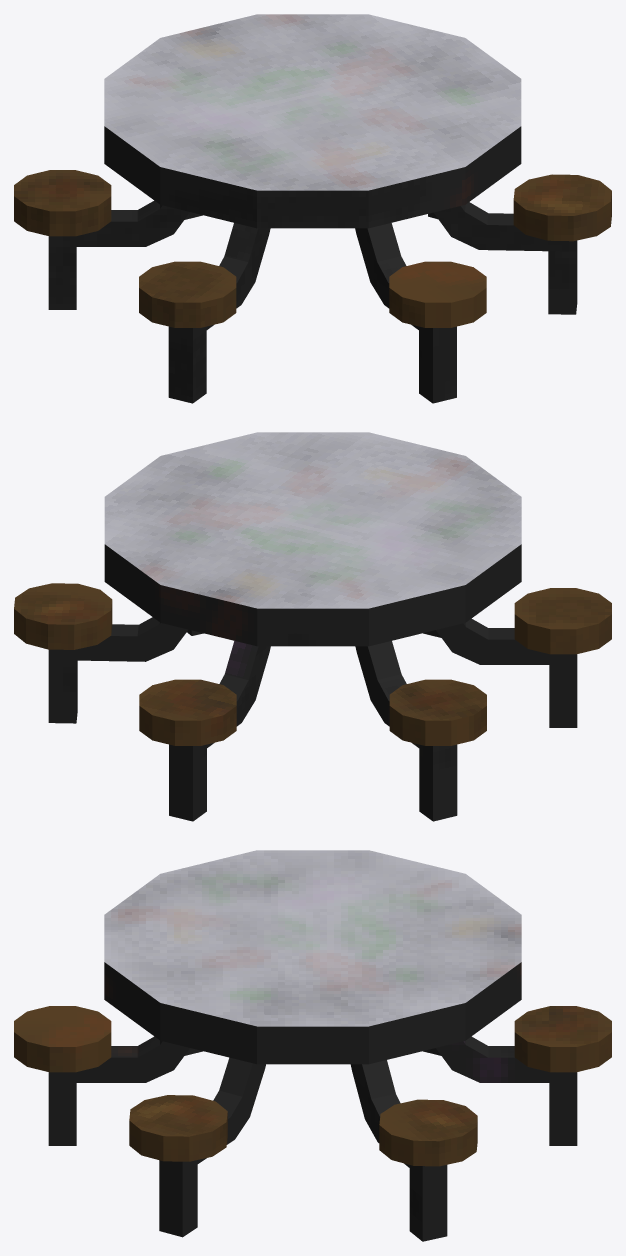
The model's file is circular_table.gltf.
3 views of the same model, one above another, from view 1: azimuth 30°, elevation 25°; view 2: azimuth 150°, elevation 25°; view 3: azimuth 270°, elevation 25° (orthographic).
Parts seen in each view (by area): view 1: cylinder, cuboid (×4); view 2: cylinder, cuboid (×4); view 3: cylinder, cuboid (×4).
Part boxes in pixels (left/top/right/bottom): cylinder: left=104, top=14, right=521, bottom=228; cuboid (×4): left=14, top=170, right=611, bottom=403; cylinder: left=104, top=432, right=521, bottom=646; cuboid (×4): left=14, top=583, right=611, bottom=821; cylinder: left=104, top=850, right=521, bottom=1064; cuboid (×4): left=14, top=1006, right=611, bottom=1241.
Bounding box in the file's own units: 2.41 × 1 × 2.69.
Materials: 1 (1 with a texture image).
